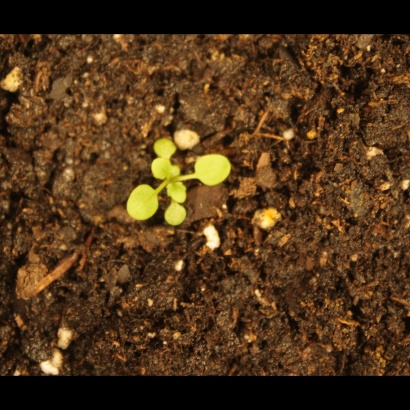leaf: (191, 151, 234, 189), (125, 183, 160, 222), (162, 178, 193, 207), (161, 200, 189, 230), (153, 133, 178, 161), (150, 158, 173, 181)
